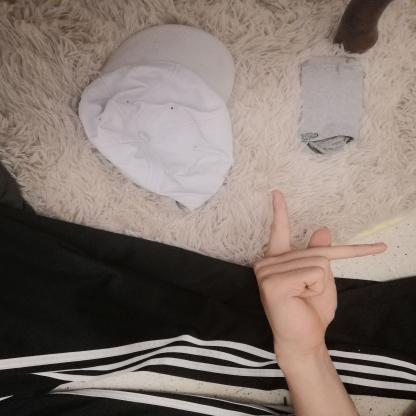DHAA: (241, 181, 399, 363)
